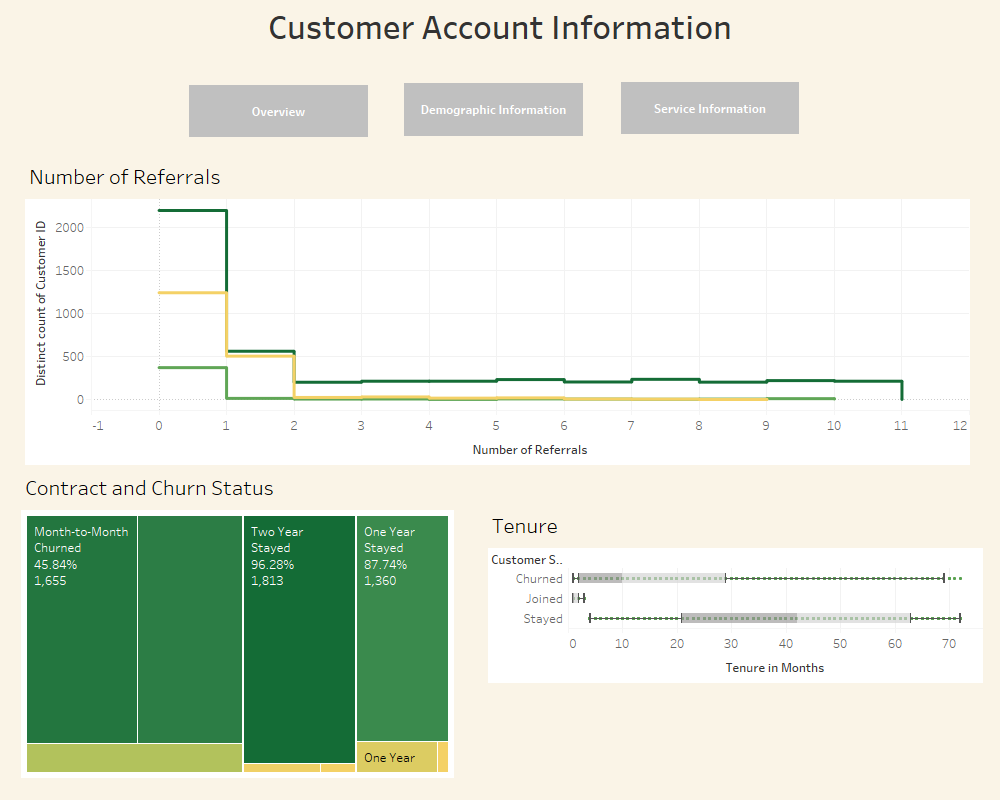

This screenshot's page, from the dashboard's own definition file:
{"tool":"tableau","page":{"name":"Customer Account Information","canvas":[1000,800],"ordinal":0},"visuals":[{"type":"title","box":[0,0,1000,52]},{"type":"dashboard-object","box":[621,82,178,52]},{"type":"dashboard-object","box":[404,83,179,53]},{"type":"dashboard-object","box":[189,85,179,52]},{"type":"worksheet","title":"Number of Referrals","mark":"Automatic","rows":["Customer ID"],"cols":["Number of Referrals"],"box":[25,156,944,309]},{"type":"worksheet","title":"Contract","mark":"Automatic","box":[21,467,590,311]},{"type":"worksheet","title":"Tenure","mark":"Circle","rows":["Customer Status"],"cols":["Tenure in Months"],"box":[488,505,494,278]}]}

Visuals, with their boxes in screenshot pixels (x1, y1, x2, y2), scaled from the page's 1000x800 canvas onto the 1000x800 screenshot:
title: crop(0, 0, 999, 52)
dashboard-object: crop(621, 82, 799, 134)
dashboard-object: crop(404, 83, 583, 136)
dashboard-object: crop(189, 85, 368, 137)
"Number of Referrals" worksheet: crop(25, 156, 969, 465)
"Contract" worksheet: crop(21, 467, 611, 778)
"Tenure" worksheet (Circle marks): crop(488, 505, 982, 783)
